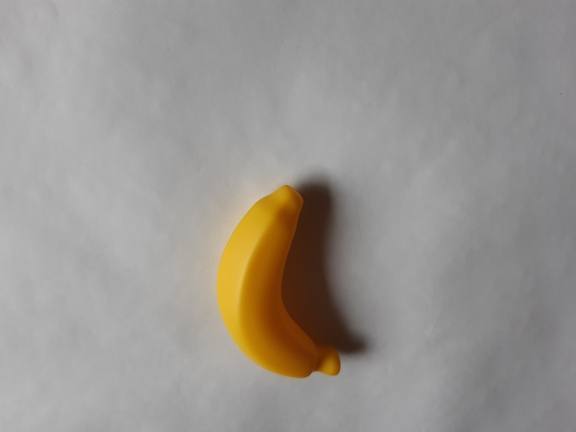banana: (207, 178, 358, 388)
